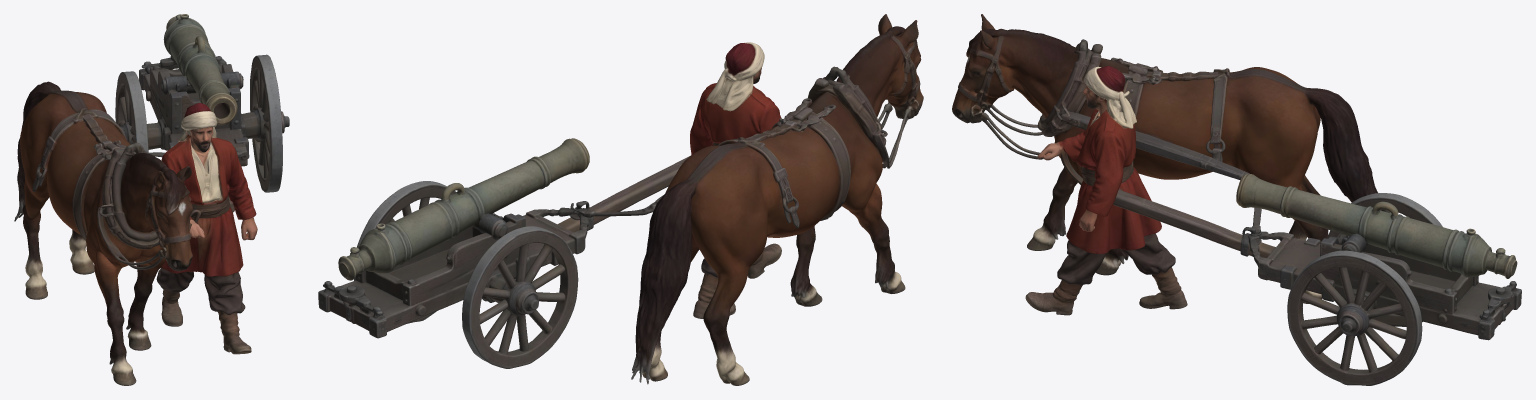
The model's file is top-arabacisi-atli-nakliye-sahnesi-1550-1600-tripo-deneme-v1.glb.
3 renders of one model, left to right at view 1: azimuth 30°, elevation 25°; view 2: azimuth 150°, elevation 25°; view 3: azimuth 270°, elevation 25°, orthographic. The views are drawn at different scales.
Visible parts, largest first — view 1: tripo_node_0c2a6b01-771a-4875-bdba-208f4e3dc765; view 2: tripo_node_0c2a6b01-771a-4875-bdba-208f4e3dc765; view 3: tripo_node_0c2a6b01-771a-4875-bdba-208f4e3dc765.
Boxes of the visible parts, box(x1,y1,x2,y2) form: tripo_node_0c2a6b01-771a-4875-bdba-208f4e3dc765: box(14, 14, 289, 385); tripo_node_0c2a6b01-771a-4875-bdba-208f4e3dc765: box(318, 14, 923, 385); tripo_node_0c2a6b01-771a-4875-bdba-208f4e3dc765: box(952, 14, 1521, 385).
Size of the model in its own units: 0.6886 by 0.4724 by 1.
1 material, 1 textured.
